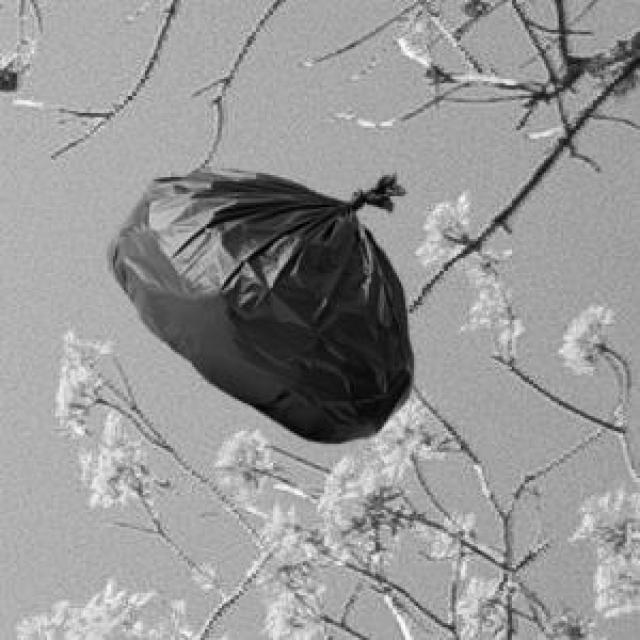miscellaneous trash: (102, 164, 410, 440)
